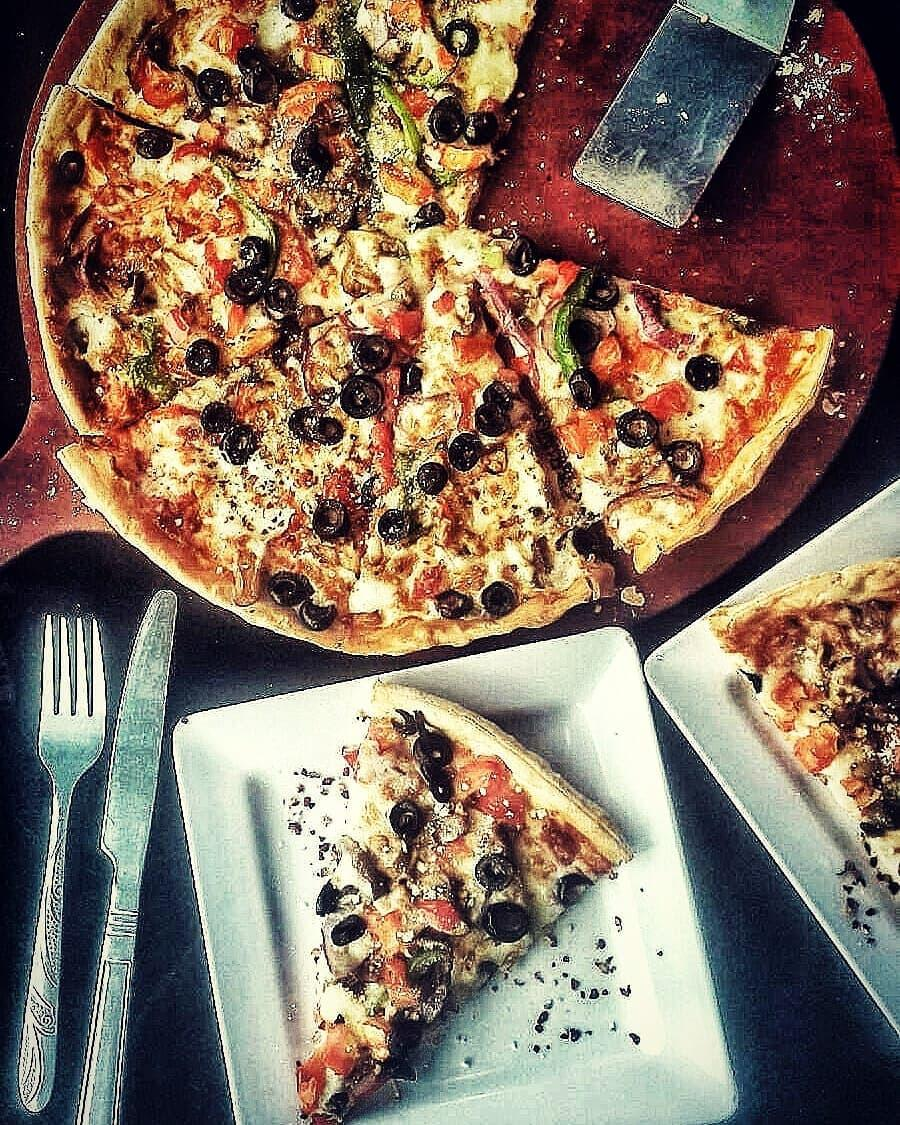Olives: (401, 713, 448, 762), (233, 41, 274, 94), (407, 933, 449, 983), (343, 373, 382, 418), (295, 121, 324, 178), (619, 405, 654, 452), (229, 229, 272, 265), (199, 393, 234, 436), (469, 409, 516, 441), (269, 567, 306, 606), (375, 509, 416, 544), (189, 69, 228, 105), (397, 1009, 418, 1073), (227, 271, 270, 302), (183, 339, 219, 376), (415, 459, 451, 496), (505, 239, 539, 278), (447, 433, 483, 469), (49, 147, 86, 182), (687, 351, 722, 388), (313, 499, 348, 536), (287, 399, 316, 442), (435, 97, 462, 143), (585, 267, 615, 308), (485, 373, 515, 413), (553, 869, 587, 904), (443, 17, 472, 58), (355, 333, 391, 365), (477, 853, 512, 885), (437, 585, 468, 621), (389, 797, 420, 833), (667, 441, 698, 476), (299, 595, 334, 626), (485, 905, 521, 934), (315, 409, 343, 446), (229, 429, 257, 466), (267, 281, 295, 316), (571, 313, 599, 348), (481, 577, 508, 613), (569, 377, 598, 409), (135, 127, 168, 155), (317, 881, 342, 914), (141, 39, 170, 66), (335, 915, 362, 944), (411, 201, 443, 224), (287, 0, 316, 25), (427, 773, 452, 802), (467, 113, 491, 141), (267, 333, 290, 362), (269, 315, 298, 337)
Peppers: (363, 59, 426, 147), (547, 279, 588, 370)
Pizza: (35, 1, 847, 657), (297, 681, 624, 1125), (703, 551, 900, 905)
Tomatoes: (373, 361, 410, 482), (303, 1021, 355, 1100), (263, 207, 308, 296), (459, 753, 518, 808), (763, 669, 806, 742), (199, 241, 239, 300), (269, 75, 338, 109), (165, 137, 208, 190), (795, 719, 832, 773), (529, 257, 579, 293), (139, 65, 178, 106), (377, 299, 418, 338), (207, 13, 242, 57), (641, 383, 686, 417), (410, 899, 462, 927), (593, 341, 628, 380), (451, 329, 488, 362), (387, 91, 430, 114)
